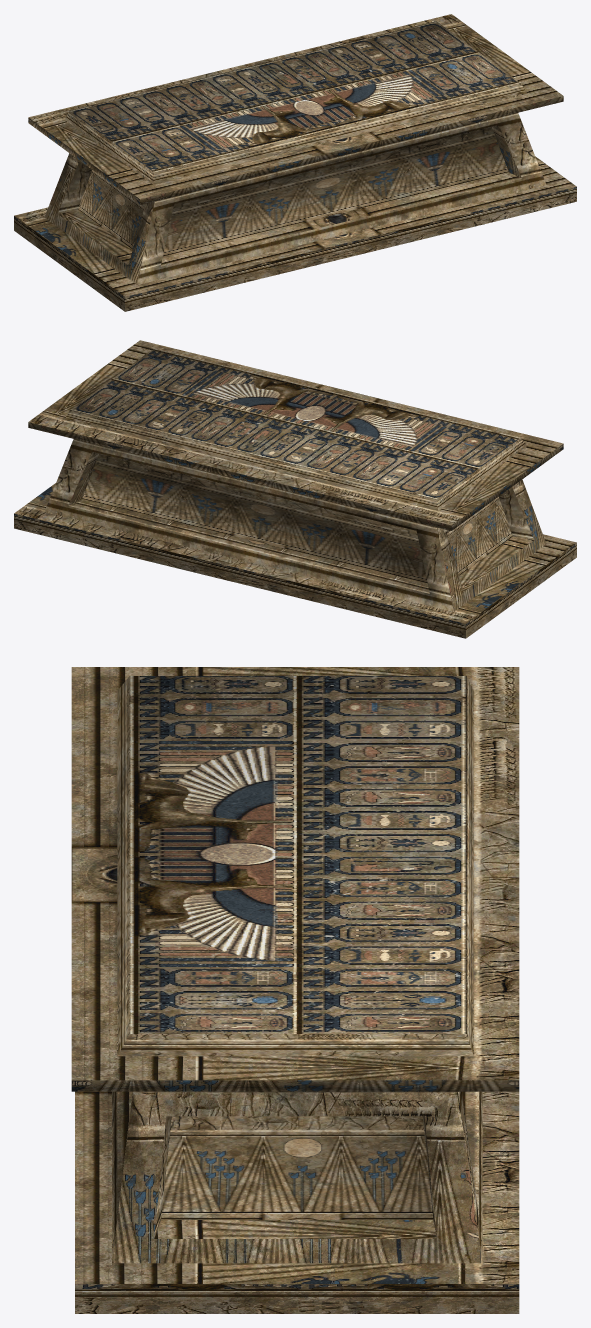
File: sarco.obj
3 renders of one model, top to bottom at view 1: azimuth 30°, elevation 25°; view 2: azimuth 150°, elevation 25°; view 3: azimuth 270°, elevation 25°, orthographic. The views are drawn at different scales.
Visible parts, largest first — view 1: Group; view 2: Group; view 3: Group.
Part boxes in pixels (<box>): Group: <box>14,14,576,311</box>; Group: <box>14,340,576,638</box>; Group: <box>71,667,519,1313</box>.
Size of the model in its own units: 409 by 103 by 175.
